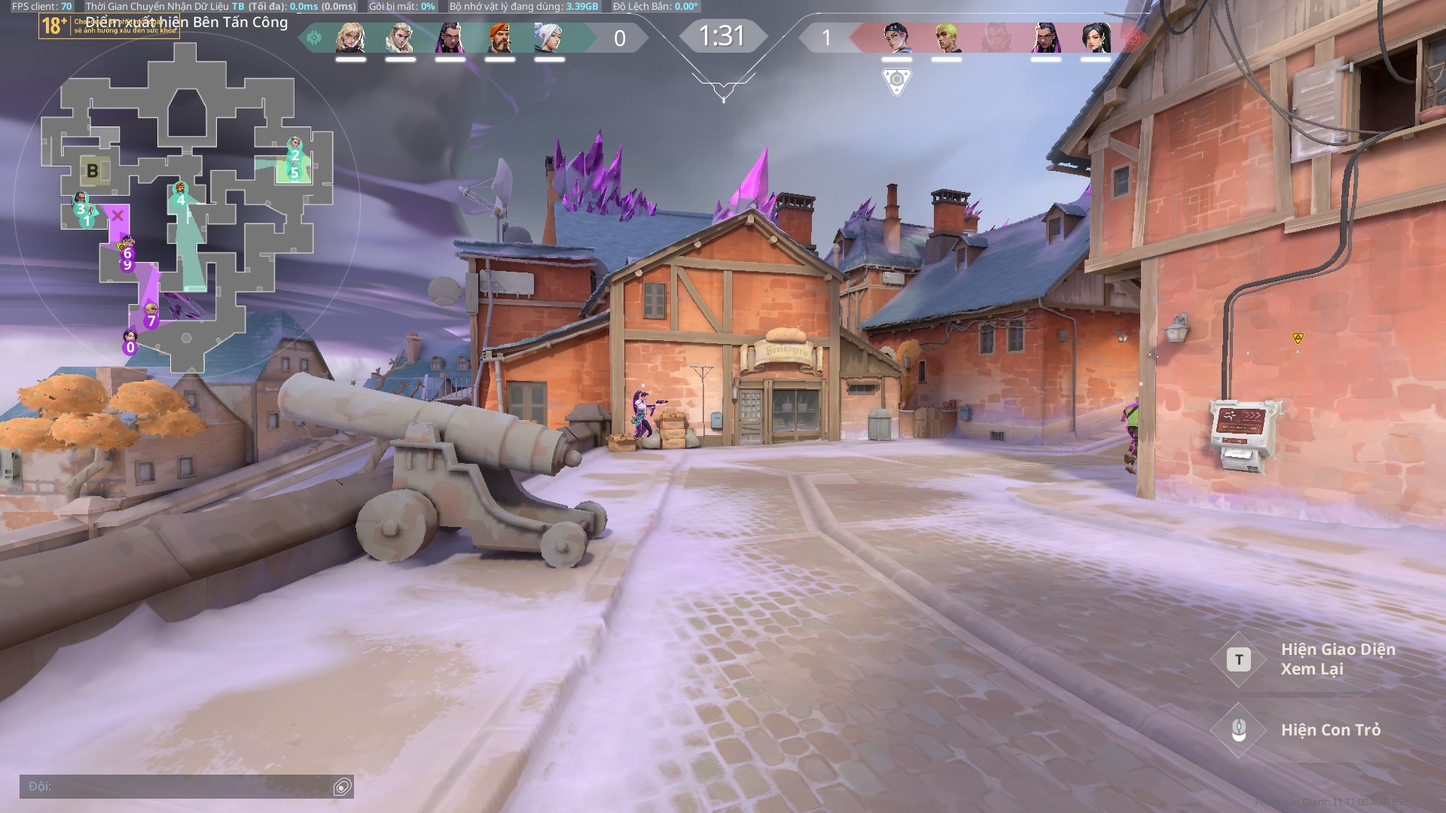body: (1124, 403, 1139, 426), (636, 398, 648, 414)
head: (641, 391, 648, 400), (1135, 393, 1139, 402)
